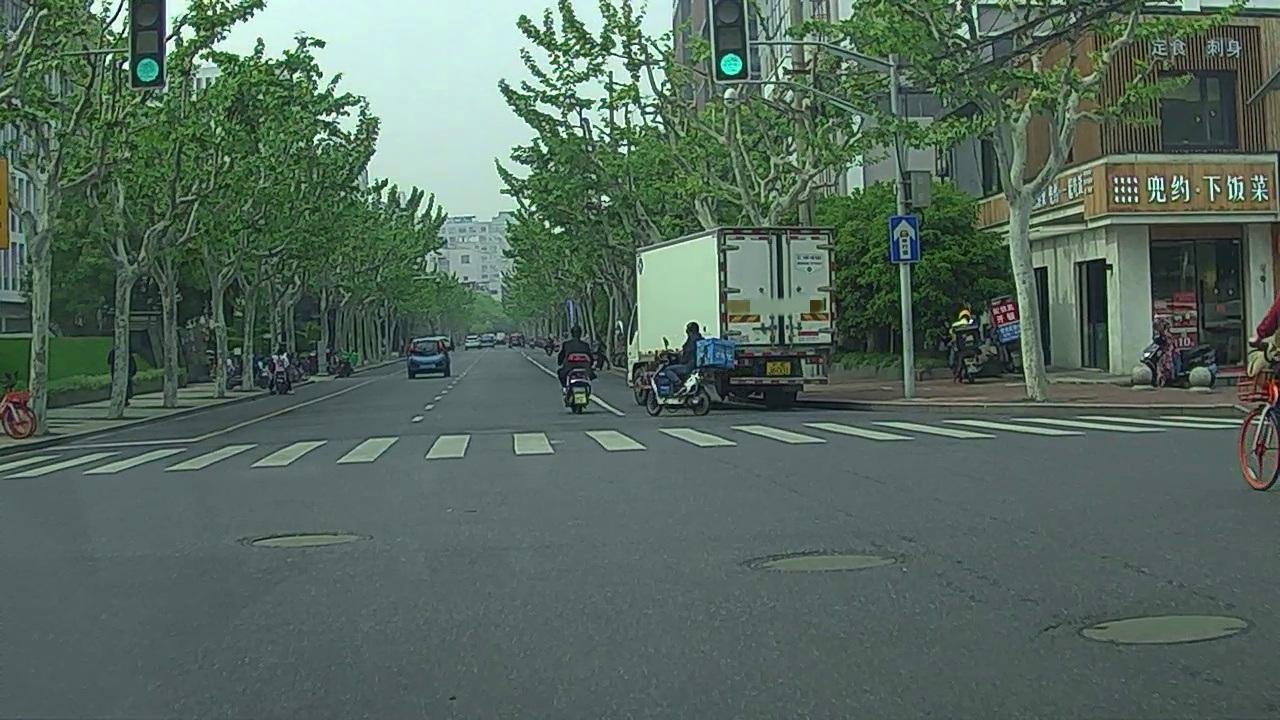traffic_light: (129, 1, 163, 89), (713, 1, 749, 80)
